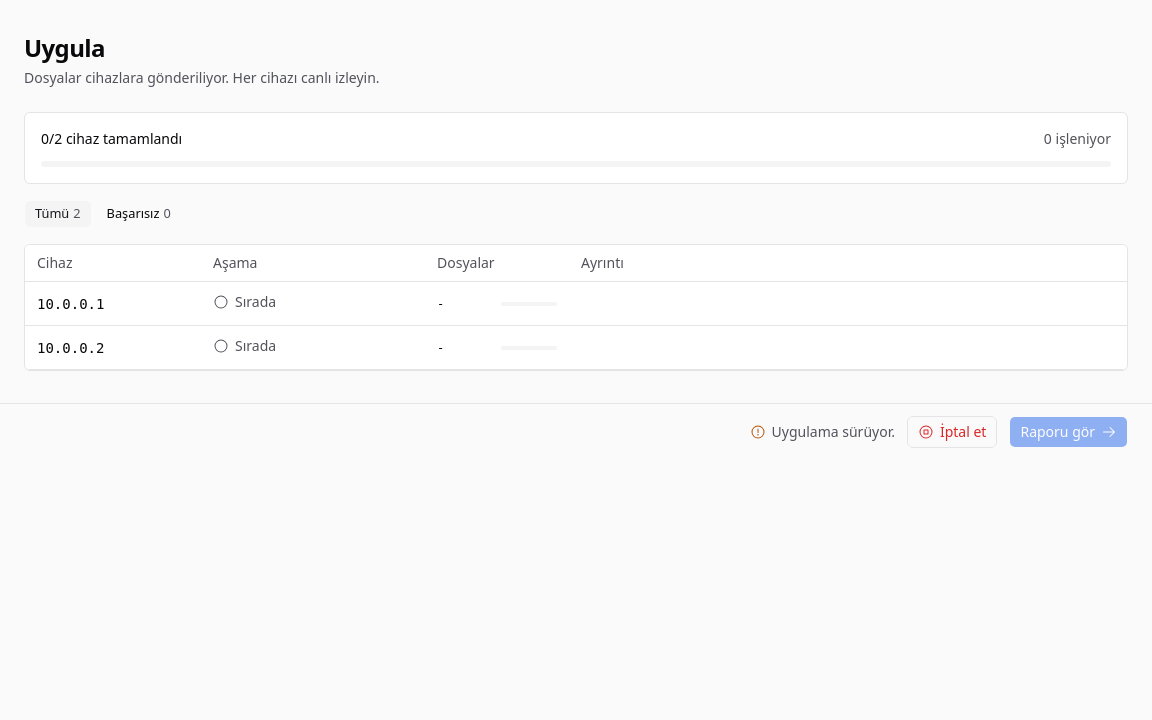
Test: ApplyStep › cancels only after confirmation
The image size is (1152, 720).
Click the button "İptal et".
click(952, 432)  # box [907,416,998,448]
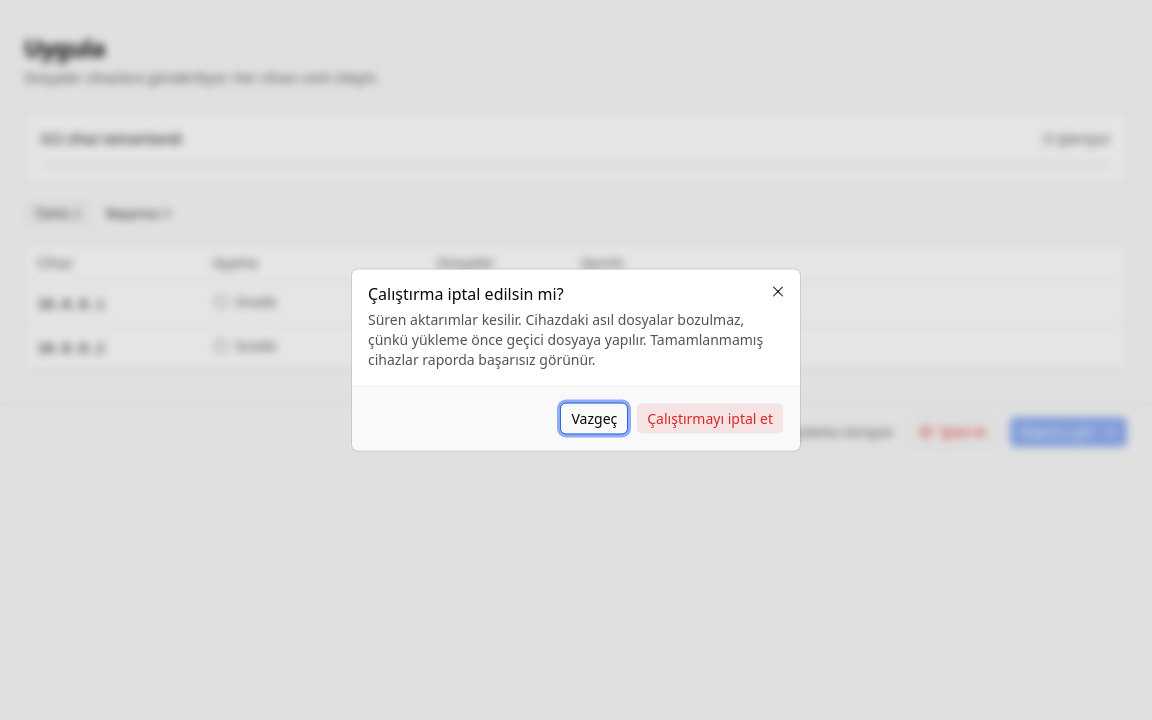
Click the button "Çalıştırmayı iptal et".
click(710, 418)  # box [636,402,784,434]
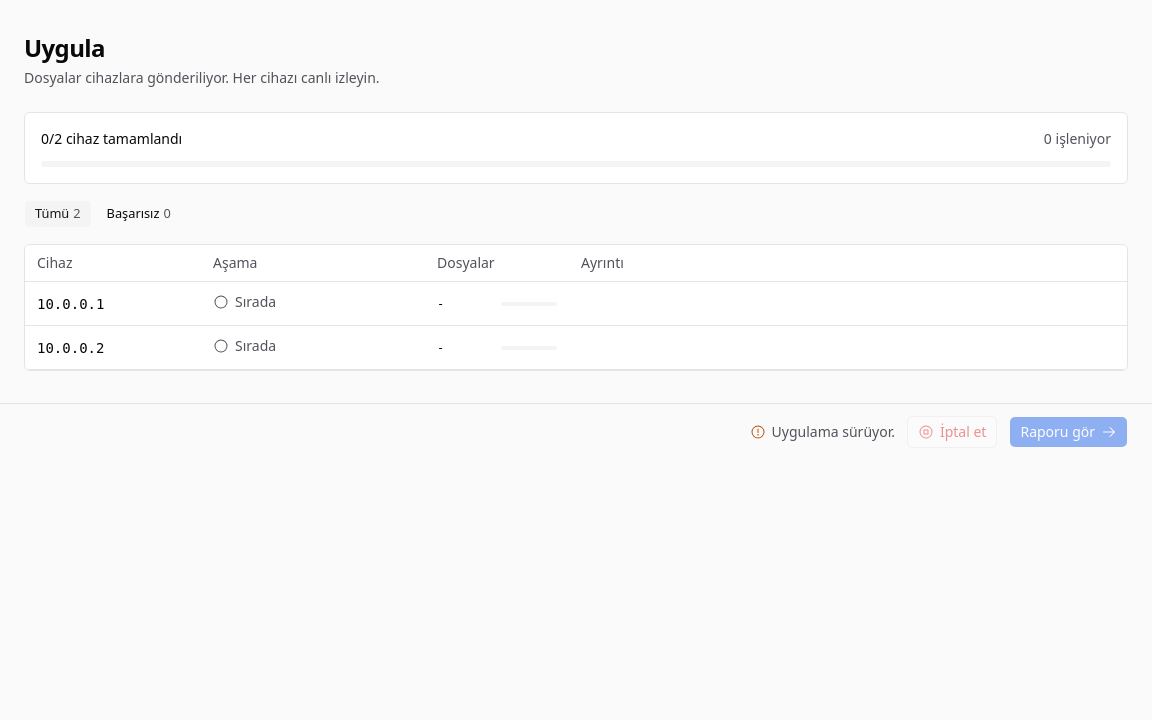
Check: the button "İptal et" is disabled, box [907,416,998,448]
